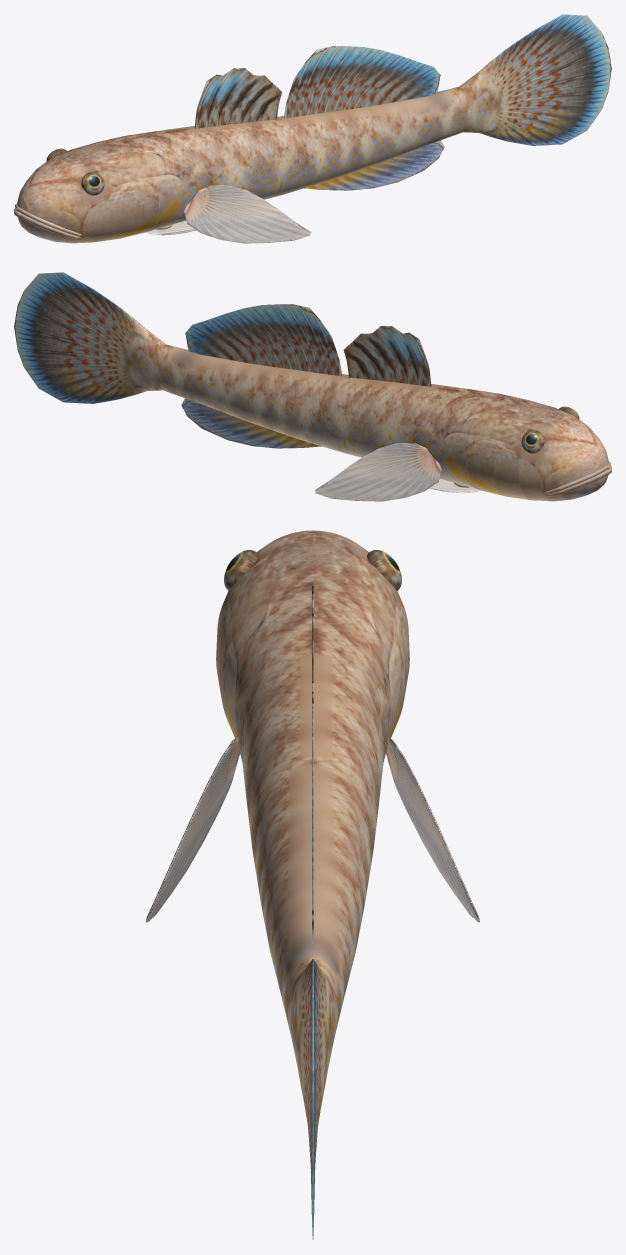
Rendered from male.glb.
3 renders of one model, top to bottom at view 1: azimuth 30°, elevation 25°; view 2: azimuth 150°, elevation 25°; view 3: azimuth 270°, elevation 25°, orthographic. The views are drawn at different scales.
Parts seen in each view (by area): view 1: Body_continuous_caudal, Dorsal_2, Pectoral_left, Dorsal_1, Anal, Eye_left, Fused_pelvic_disc, Projecting_lower_lip; view 2: Body_continuous_caudal, Dorsal_2, Pectoral_right, Dorsal_1, Anal, Eye_right, Fused_pelvic_disc, Projecting_lower_lip; view 3: Body_continuous_caudal, Pectoral_left, Pectoral_right.
Part boxes in pixels (x1=…): Body_continuous_caudal: x1=17, y1=14, x2=611, y2=243; Dorsal_2: x1=283, y1=46, x2=440, y2=118; Pectoral_left: x1=184, y1=184, x2=311, y2=243; Dorsal_1: x1=194, y1=68, x2=282, y2=128; Anal: x1=304, y1=140, x2=444, y2=190; Eye_left: x1=81, y1=172, x2=104, y2=195; Fused_pelvic_disc: x1=145, y1=220, x2=196, y2=235; Projecting_lower_lip: x1=14, y1=208, x2=80, y2=238; Body_continuous_caudal: x1=14, y1=272, x2=608, y2=501; Dorsal_2: x1=185, y1=304, x2=342, y2=376; Pectoral_right: x1=314, y1=442, x2=441, y2=501; Dorsal_1: x1=343, y1=326, x2=431, y2=386; Anal: x1=181, y1=398, x2=321, y2=448; Eye_right: x1=521, y1=430, x2=544, y2=453; Fused_pelvic_disc: x1=429, y1=478, x2=480, y2=493; Projecting_lower_lip: x1=545, y1=466, x2=611, y2=496; Body_continuous_caudal: x1=216, y1=530, x2=409, y2=1239; Pectoral_left: x1=146, y1=737, x2=239, y2=922; Pectoral_right: x1=386, y1=737, x2=479, y2=922.
Size of the model in its own units: 0.04 by 0.01 by 0.00971.
1 material, 1 textured.
